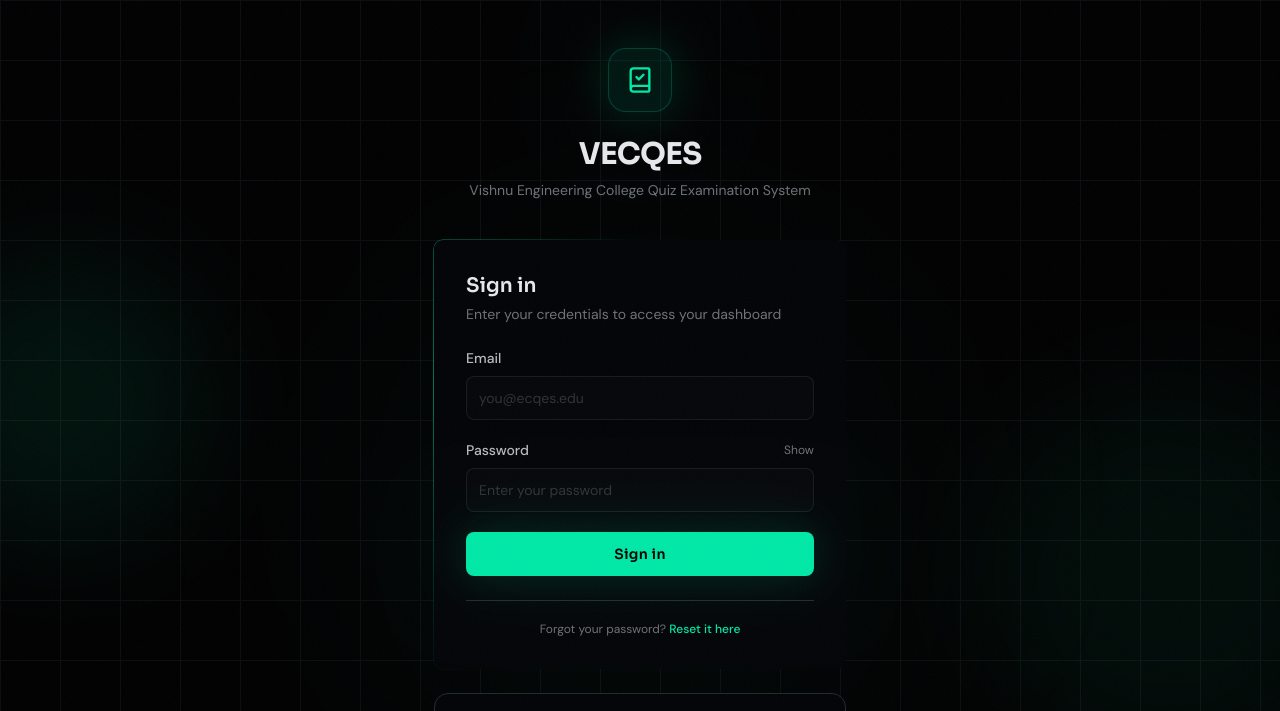
Test case: LoginPage › shows error on invalid credentials
Type "wrong@test.com" into the field labelled "Email".
click(640, 398); type("wrong@test.com")  # box [466,376,814,420]
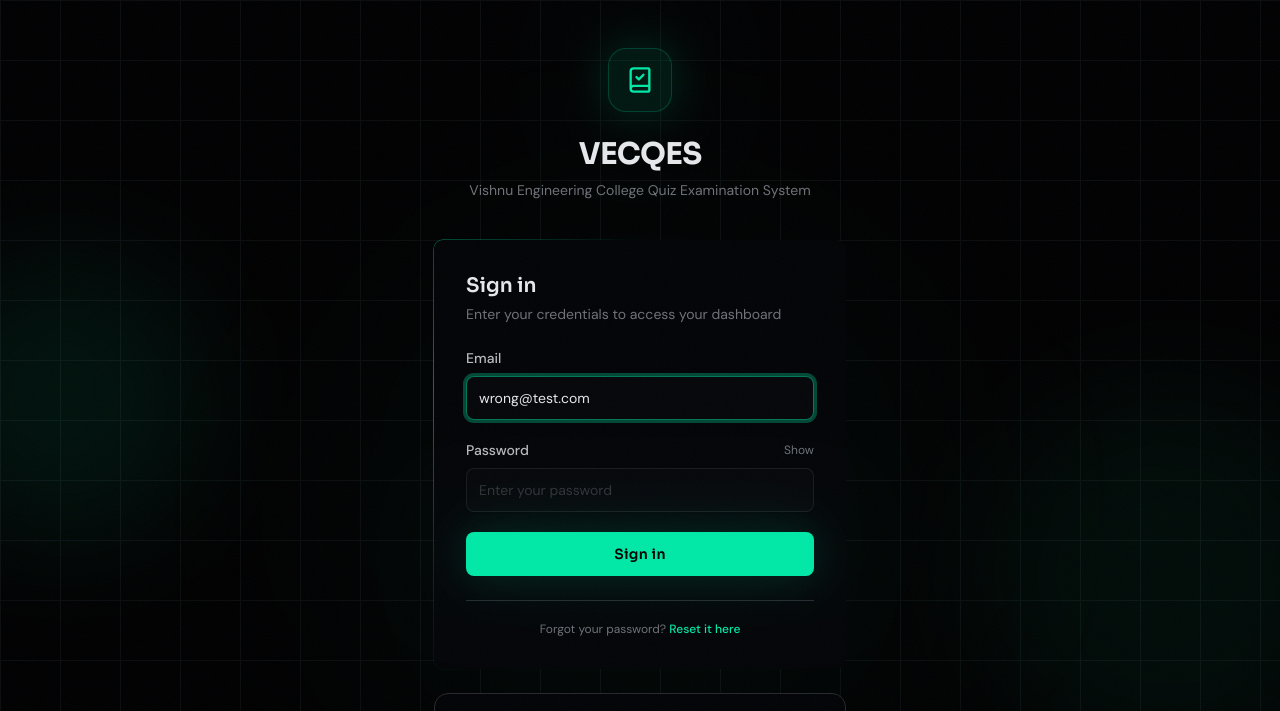
Type "badpass" into the password field labelled "Password".
click(640, 490); type("badpass")  # box [466,468,814,512]
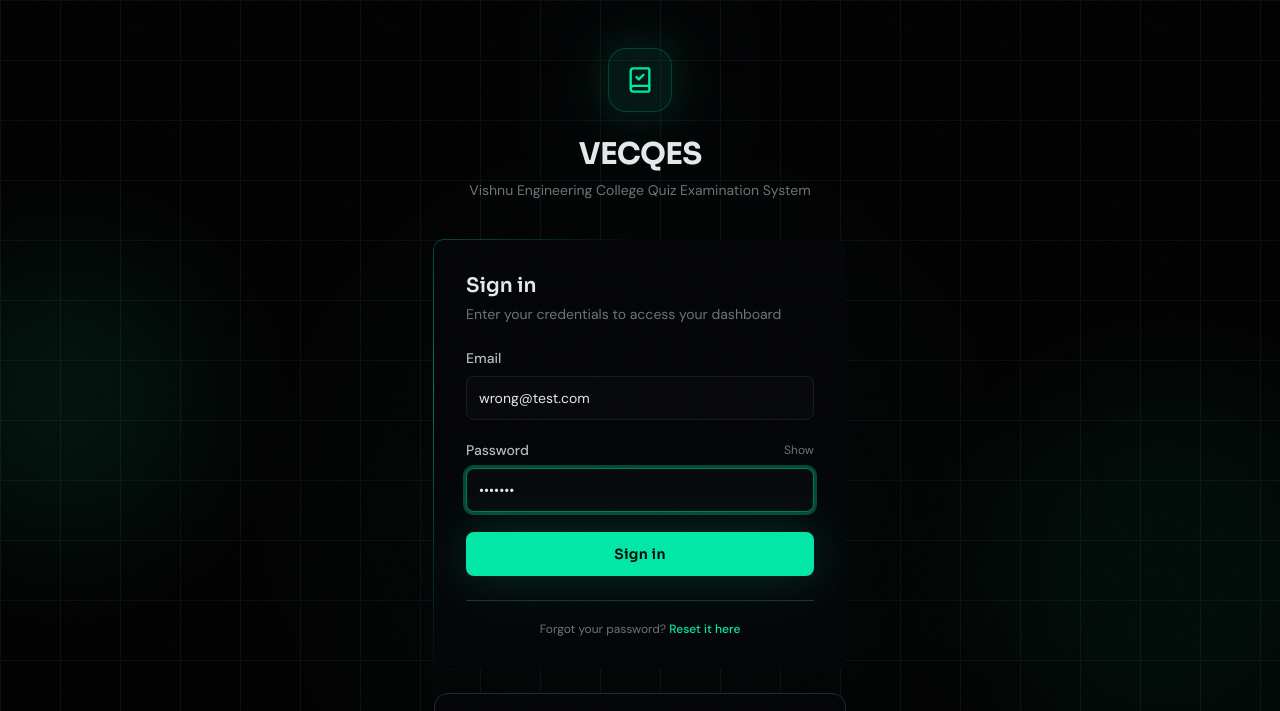
Click the button "Sign in".
click(640, 554)  # box [466,532,814,576]
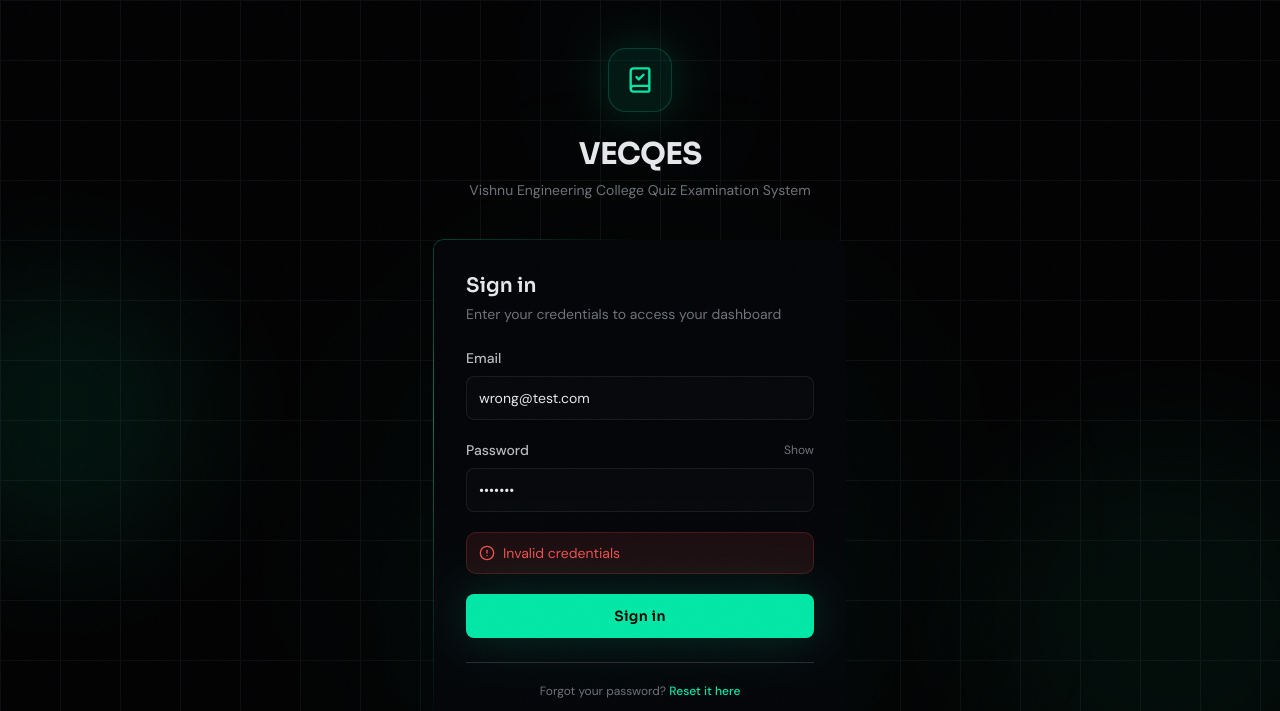
Expected: the text "Invalid credentials" is shown, [466,532,814,574]
